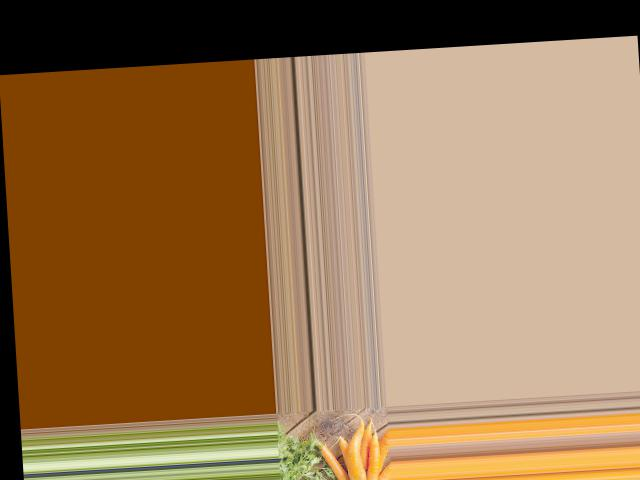carrot: (369, 464, 393, 480)
